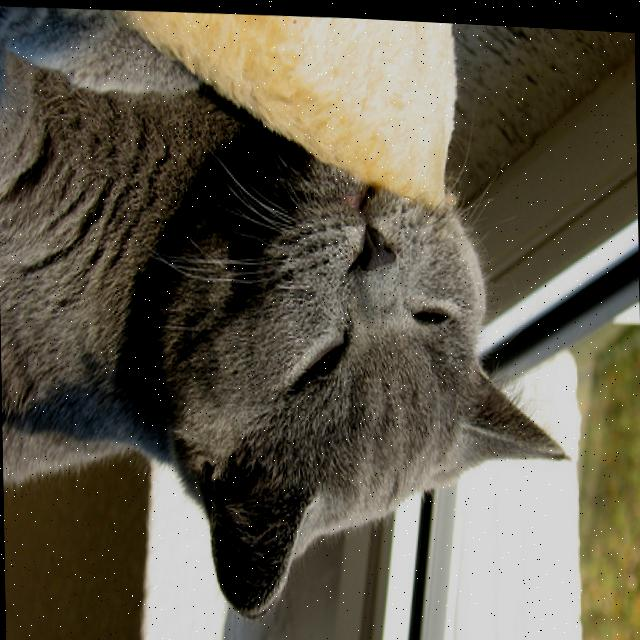British Shorthair: (0, 0, 578, 639)
